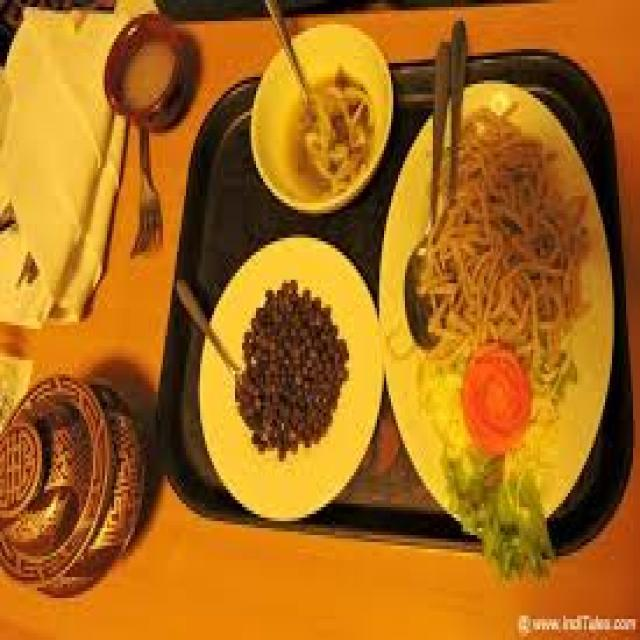papad: (1, 19, 106, 347)
rice: (194, 241, 383, 509)
